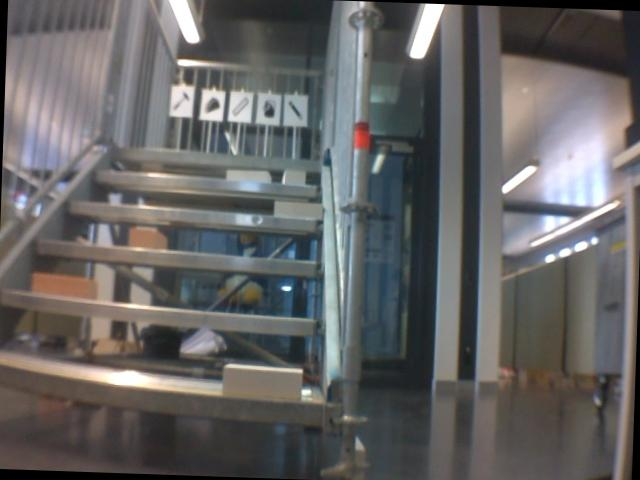brick: (222, 364, 302, 399), (31, 273, 96, 300), (128, 228, 167, 249), (274, 202, 322, 219), (226, 169, 271, 183), (282, 169, 304, 185)
bucket: (260, 97, 277, 119)
edge: (34, 240, 321, 277), (63, 201, 324, 230), (94, 170, 321, 195), (115, 147, 320, 169)
hammer: (170, 90, 192, 112)
pencil: (285, 98, 304, 123)
ruler: (231, 95, 250, 117)
taco: (203, 92, 223, 116)
